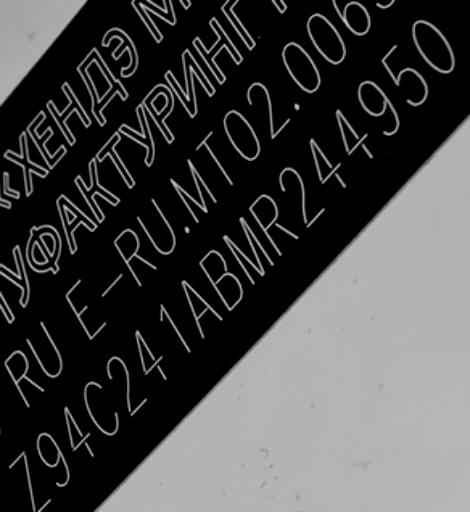letter: (376, 43, 432, 107), (272, 164, 329, 224), (246, 193, 297, 259), (221, 216, 271, 282), (351, 76, 404, 136), (4, 450, 55, 510), (402, 18, 456, 74), (131, 328, 176, 392), (102, 351, 147, 415), (330, 104, 377, 164), (177, 276, 225, 334), (298, 136, 349, 190), (57, 400, 98, 466), (147, 298, 190, 360), (200, 250, 242, 312), (37, 430, 75, 492), (80, 378, 119, 438)
